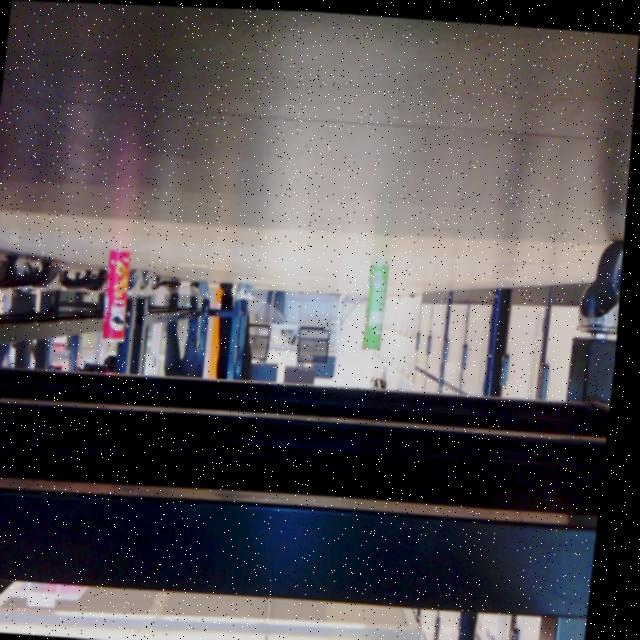greenpringles: (362, 255, 405, 361)
redpringles: (104, 237, 140, 348)
